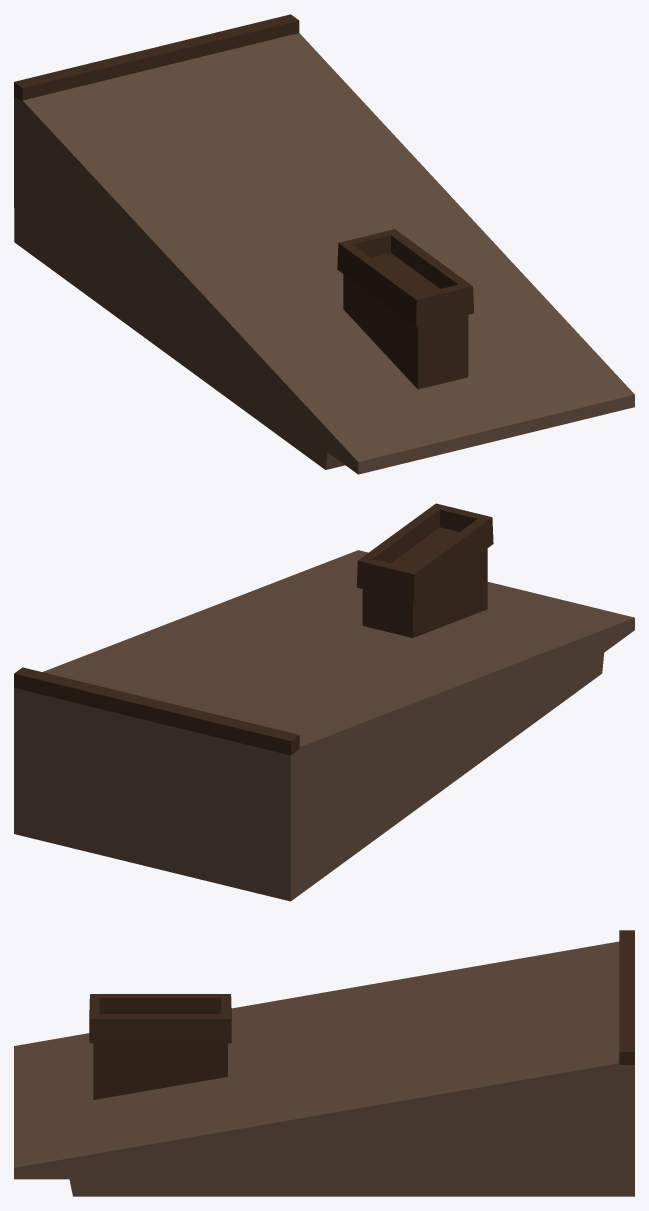
Rendered from Upper_floor_Large_Rooftop.FBX.
3 renders of one model, top to bottom at view 1: azimuth 30°, elevation 25°; view 2: azimuth 150°, elevation 25°; view 3: azimuth 270°, elevation 25°, orthographic. The views are drawn at different scales.
Visible parts, largest first — view 1: Rooftop_type3_022; view 2: Rooftop_type3_022; view 3: Rooftop_type3_022.
Boxes of the visible parts, <box> form: Rooftop_type3_022: <box>14,14,634,474</box>; Rooftop_type3_022: <box>14,503,634,901</box>; Rooftop_type3_022: <box>14,930,634,1196</box>.
Bounding box in the file's own units: 315 × 679 × 175.
